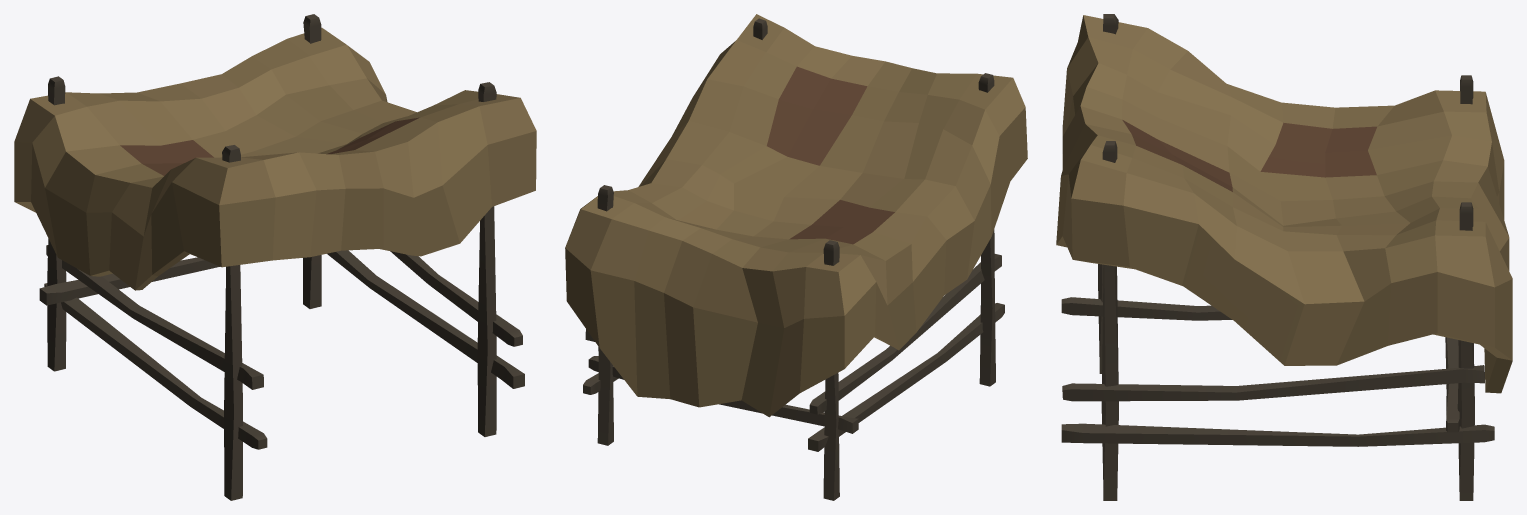
Rendered from SM_Bld_Tent_02.glb.
3 views of the same model, side by side, from view 1: azimuth 30°, elevation 25°; view 2: azimuth 150°, elevation 25°; view 3: azimuth 270°, elevation 25° (orthographic). The views are drawn at different scales.
Visible parts, largest first — view 1: SM_Bld_Tent_02; view 2: SM_Bld_Tent_02; view 3: SM_Bld_Tent_02.
Boxes of the visible parts, x1,y1,x2,y2 form: SM_Bld_Tent_02: (14, 14, 536, 500); SM_Bld_Tent_02: (565, 14, 1027, 500); SM_Bld_Tent_02: (1056, 14, 1512, 500).
Size of the model in its own units: 0.0279 by 0.0269 by 0.0313.
